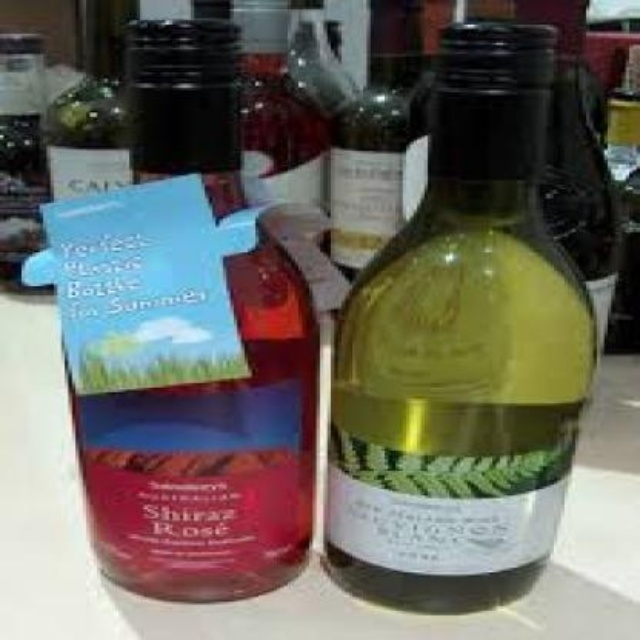trash: (326, 23, 594, 574)
